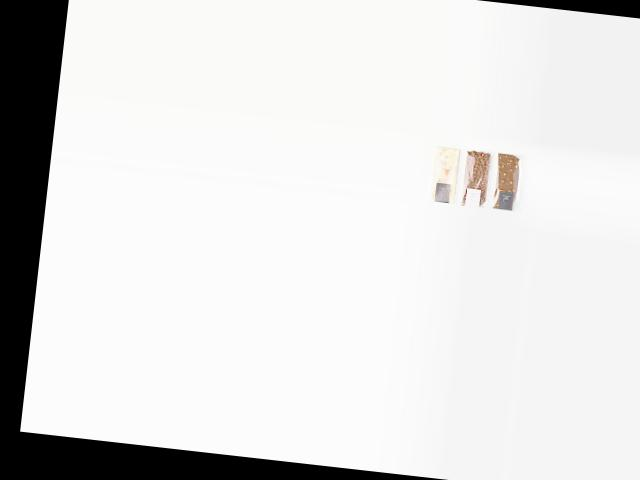chocolate: (489, 147, 531, 211)
